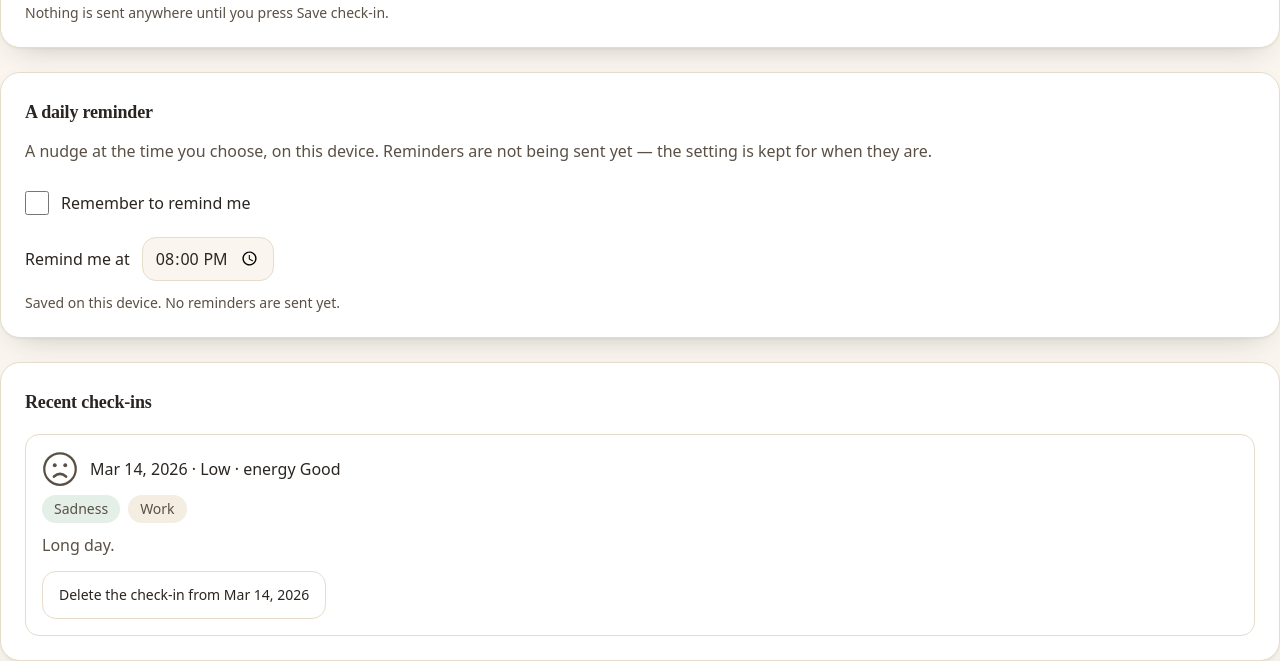
Test: MoodView — history and deletion › lists past check-ins with their words, and deletes only after confirming
(page scrolled)
Expected: the list item "Sadness" is shown, [42,495,120,523]
Expected: the list item "Work" is shown, [128,495,187,523]
Click the button "Delete the check-in from Mar 14, 2026": [184, 595] box [42,571,326,619]
(page scrolled)
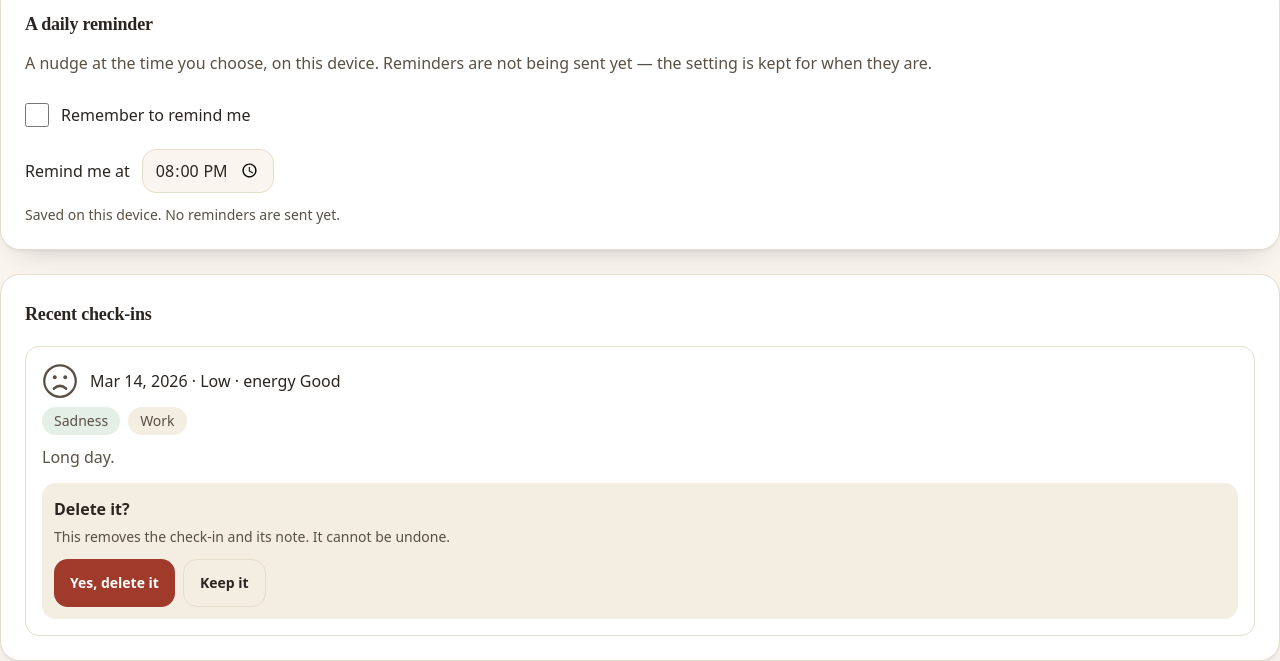
Expected: the text "This removes the check-in and its note. It cannot be undone." is shown, [54,527,450,546]
Note: Backing out leaves it alone.
Click the button "Keep it": [224, 583] box [183,559,266,607]
(page scrolled)
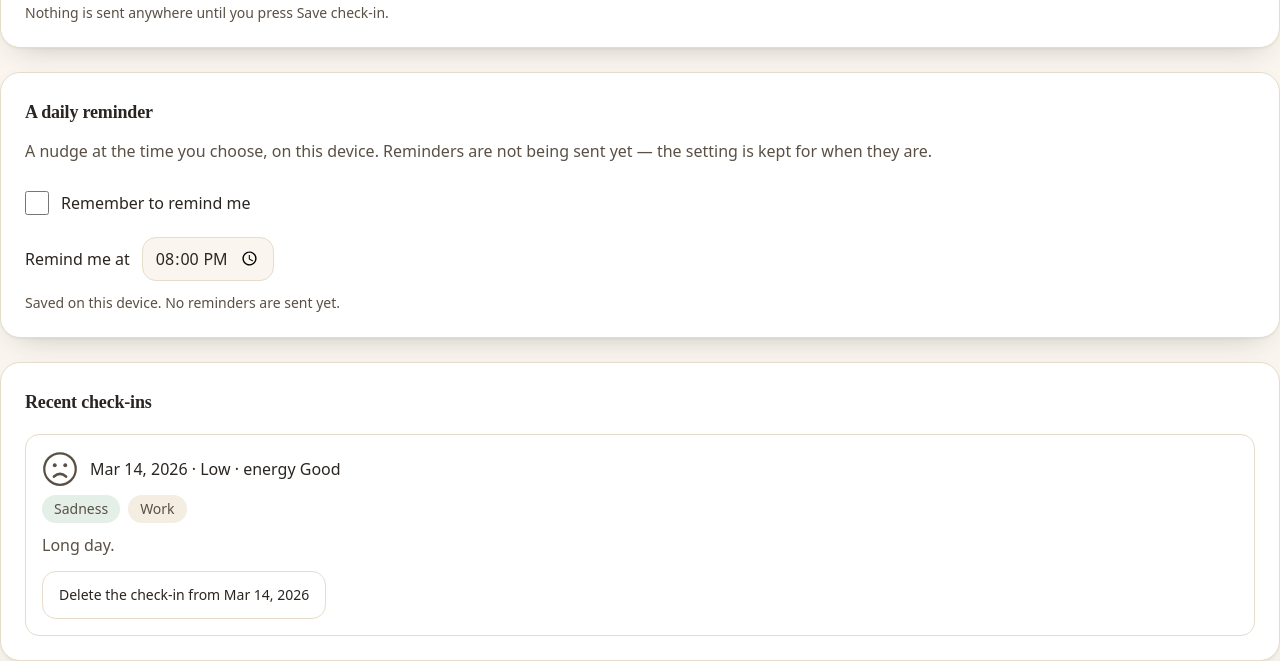
Expected: the list item with test id "mood-history-entry" is shown, [25,434,1255,636]
Note: Confirming deletes, and the list updates without a reload.
Click the button "Delete the check-in from Mar 14, 2026": [184, 595] box [42,571,326,619]
(page scrolled)
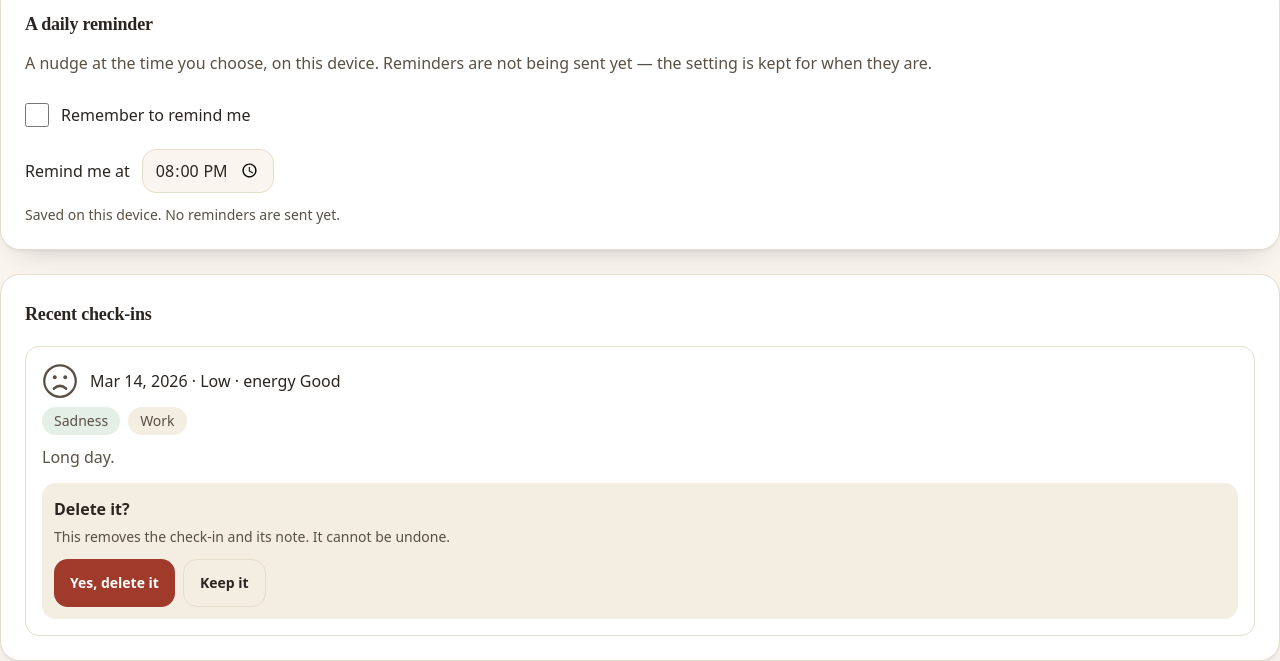
Click the button "Yes, delete it": [114, 583] box [54,559,175,607]
(page scrolled)
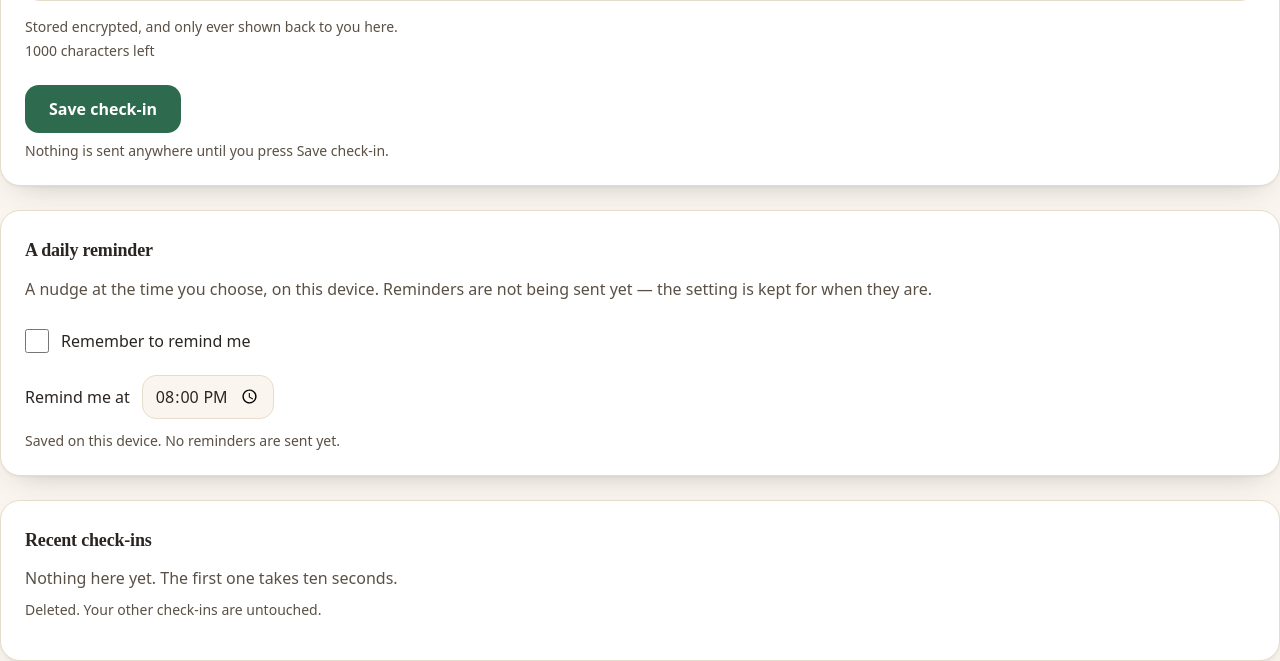
Expected: the text "Nothing here yet. The first one takes ten seconds." is shown, [25,567,398,589]
